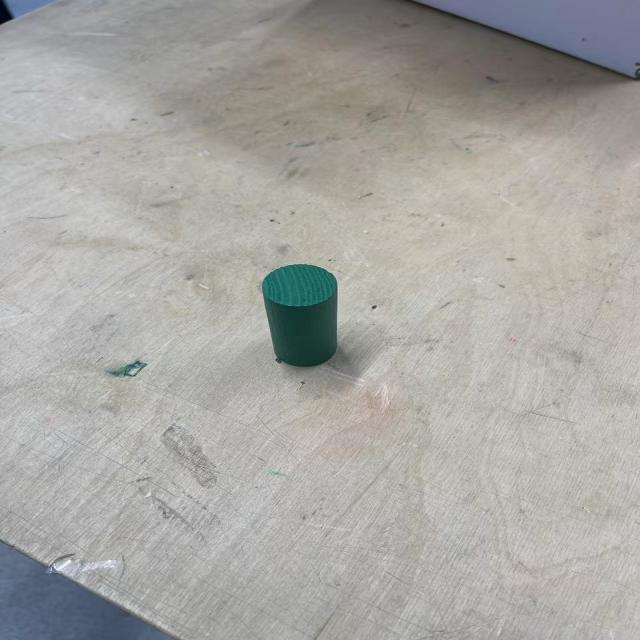green_cylinder: (260, 263, 339, 369)
